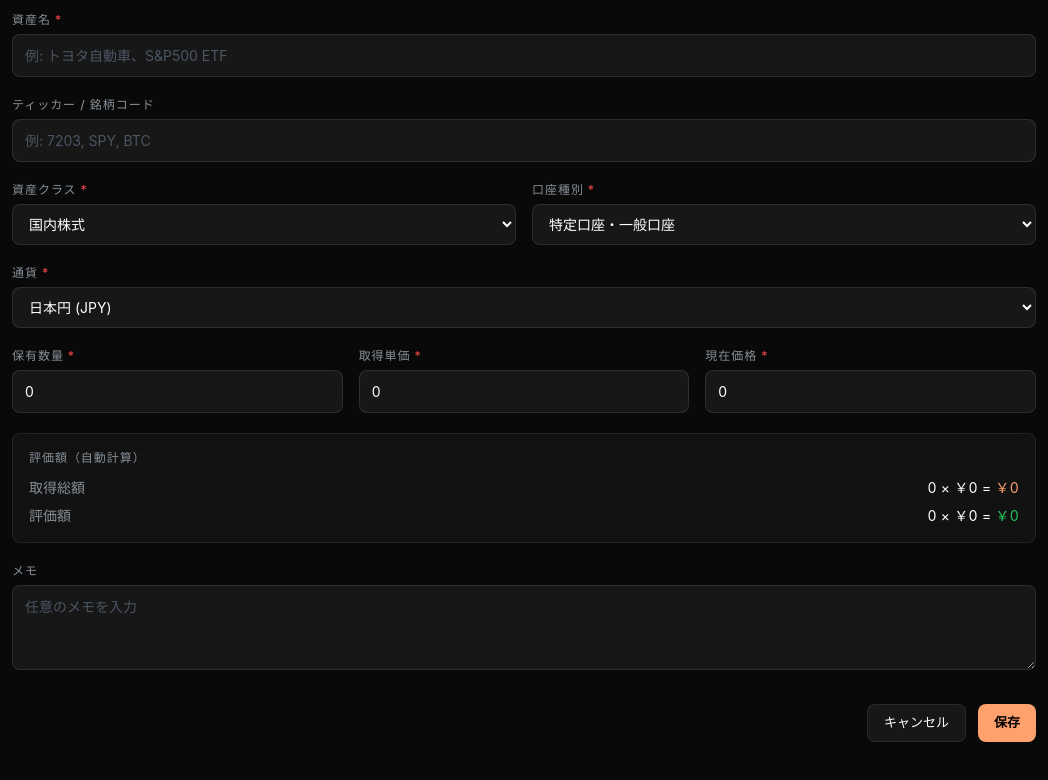
Test case: AssetForm mutual_fund mode › mutual_fund 選択時はファンド検索入力が表示される
This screenshot has width=1048, height=780.
Select "投資信託" in the dropdown labelled "資産クラス*": (264, 224) [12, 204, 516, 245]
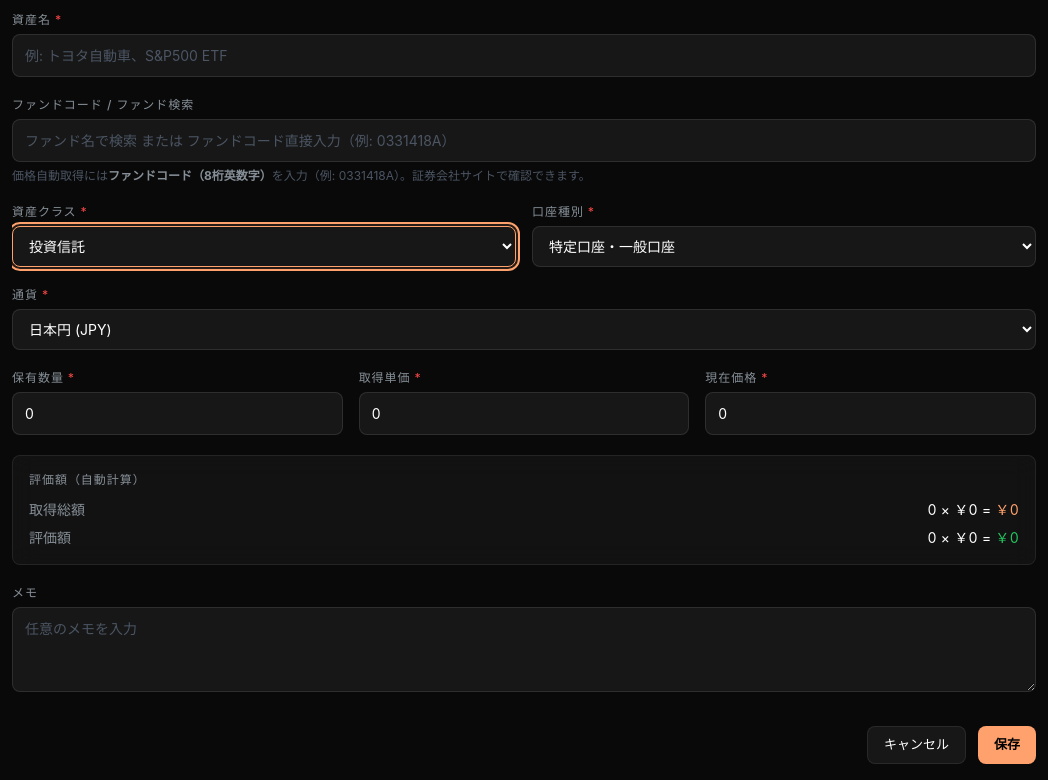
Expected: the field with placeholder "7203, SPY, BTC" is not shown
Expected: the dropdown labelled "ファンドコード / ファンド検索" is shown, [12, 119, 1036, 162]
